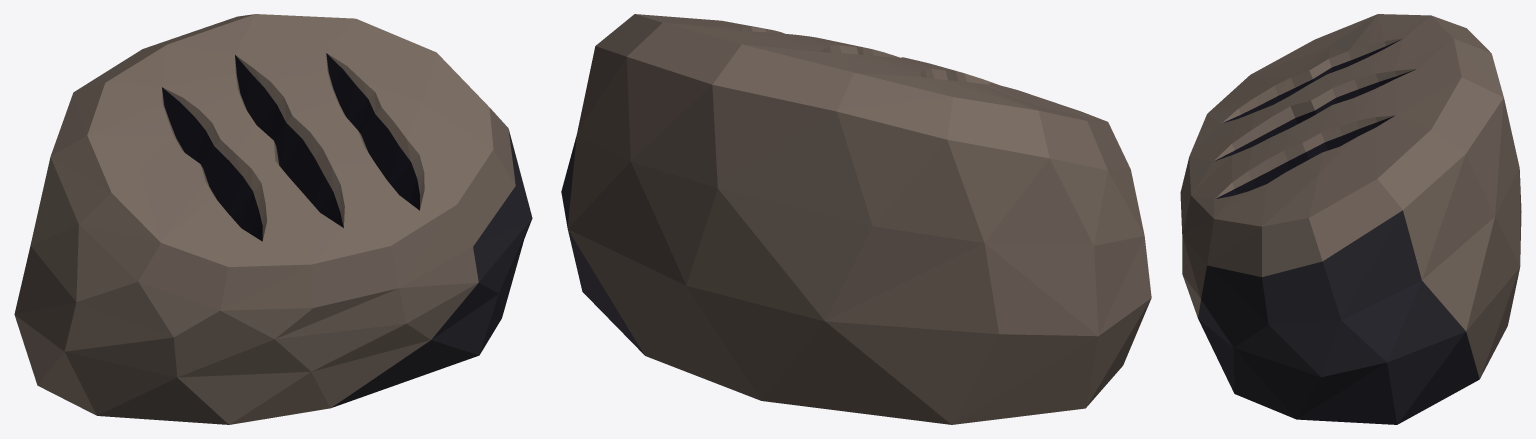
The model's file is claw-scored-boulder-c756f3.glb.
3 renders of one model, left to right at view 1: azimuth 30°, elevation 25°; view 2: azimuth 150°, elevation 25°; view 3: azimuth 270°, elevation 25°, orthographic. The views are drawn at different scales.
Visible parts, largest first — view 1: boulder; view 2: boulder; view 3: boulder.
Boxes of the visible parts, x1=… form: boulder: x1=14, y1=14, x2=532, y2=424; boulder: x1=561, y1=14, x2=1151, y2=424; boulder: x1=1180, y1=14, x2=1521, y2=424.
Bounding box in the file's own units: 2 × 1.14 × 1.32.
